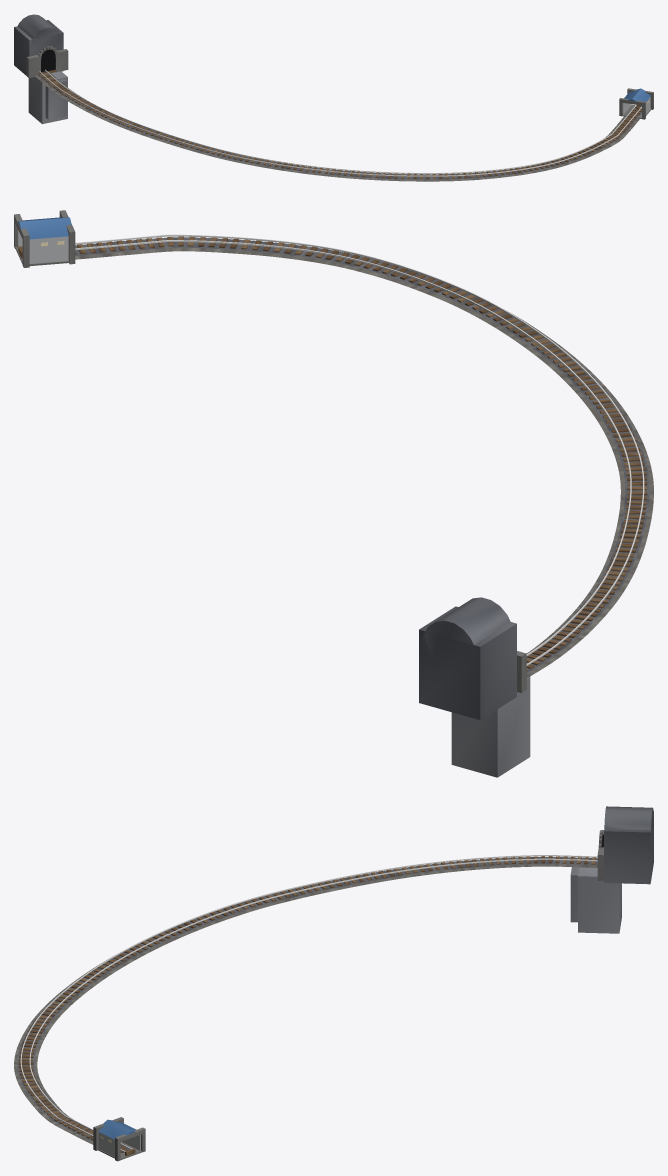
Rendered from Rail_P1.fbx.
3 renders of one model, top to bottom at view 1: azimuth 30°, elevation 25°; view 2: azimuth 150°, elevation 25°; view 3: azimuth 270°, elevation 25°, orthographic. The views are drawn at different scales.
Visible parts, largest first — view 1: Rail.Portal, Rail.Sleepers, Rail.Bed, Rail.Ballast, Rail.Rail, Rail.Rail.001, Rail.Shed; view 2: Rail.Portal, Rail.Sleepers, Rail.Bed, Rail.Ballast, Rail.Shed, Rail.Rail, Rail.Rail.001; view 3: Rail.Portal, Rail.Sleepers, Rail.Bed, Rail.Ballast, Rail.Shed, Rail.Rail, Rail.Rail.001.
Boxes of the visible parts, x1,y1,x2,y2 form: Rail.Portal: [14, 14, 68, 124]; Rail.Sleepers: [38, 71, 641, 178]; Rail.Bed: [37, 72, 641, 179]; Rail.Ballast: [35, 72, 639, 181]; Rail.Rail: [39, 71, 641, 176]; Rail.Rail.001: [45, 69, 636, 173]; Rail.Shed: [619, 88, 653, 119]; Rail.Portal: [419, 597, 530, 777]; Rail.Sleepers: [75, 236, 647, 671]; Rail.Bed: [75, 237, 649, 673]; Rail.Ballast: [75, 237, 653, 678]; Rail.Shed: [14, 210, 75, 267]; Rail.Rail: [75, 234, 644, 665]; Rail.Rail.001: [75, 240, 631, 656]; Rail.Portal: [570, 806, 653, 933]; Rail.Sleepers: [18, 856, 596, 1152]; Rail.Bed: [17, 857, 597, 1152]; Rail.Ballast: [14, 857, 597, 1144]; Rail.Shed: [93, 1117, 145, 1161]; Rail.Rail: [20, 855, 597, 1152]; Rail.Rail.001: [29, 858, 597, 1149].
Bounding box in the file's own units: 26842 × 4946 × 24672.
